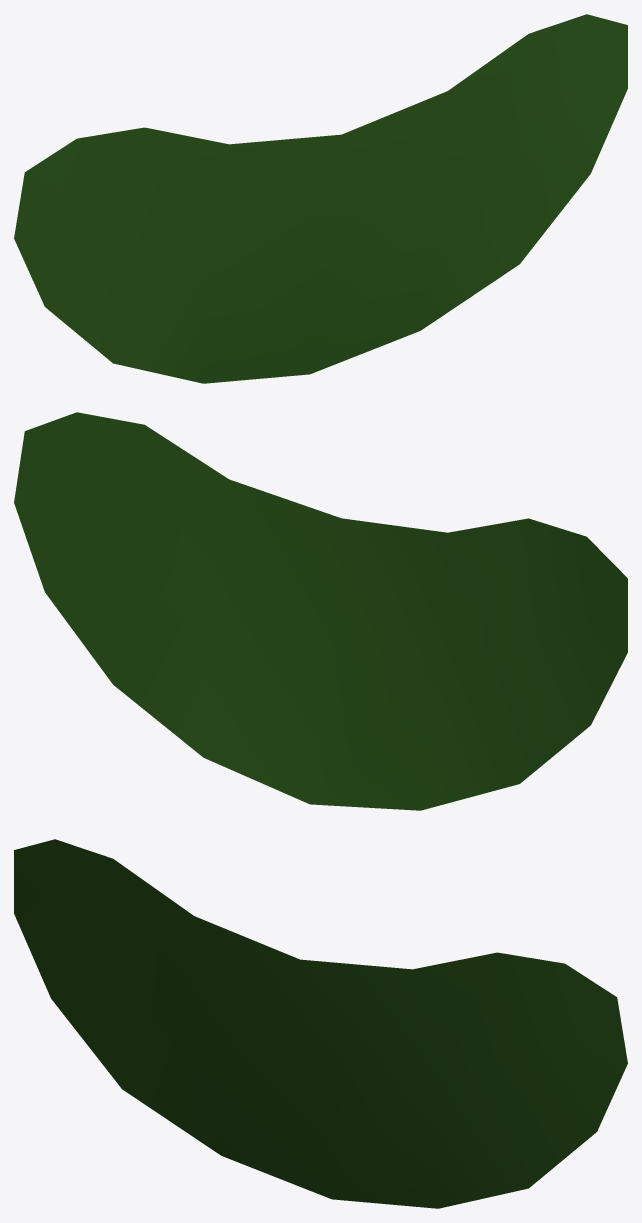
Rendered from Mouth_Green_6.fbx.
3 views of the same model, one above another, from view 1: azimuth 30°, elevation 25°; view 2: azimuth 150°, elevation 25°; view 3: azimuth 330°, elevation 25° (orthographic).
Visible parts, largest first — view 1: Mouth_Green_6; view 2: Mouth_Green_6; view 3: Mouth_Green_6.
Boxes of the visible parts, bbox=[...] form: Mouth_Green_6: bbox=[14, 14, 627, 383]; Mouth_Green_6: bbox=[14, 412, 627, 810]; Mouth_Green_6: bbox=[14, 839, 627, 1208].
Size of the model in its own units: 7.46 by 3.64 by 0.6651.
